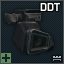AN%5PVS-14 Dual Dovetail Mount: (0, 0, 64, 64)
